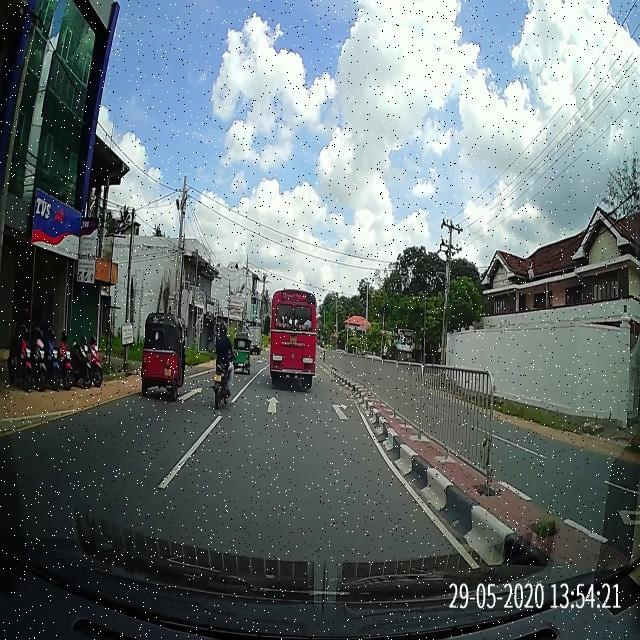forward: (203, 384, 300, 440)
